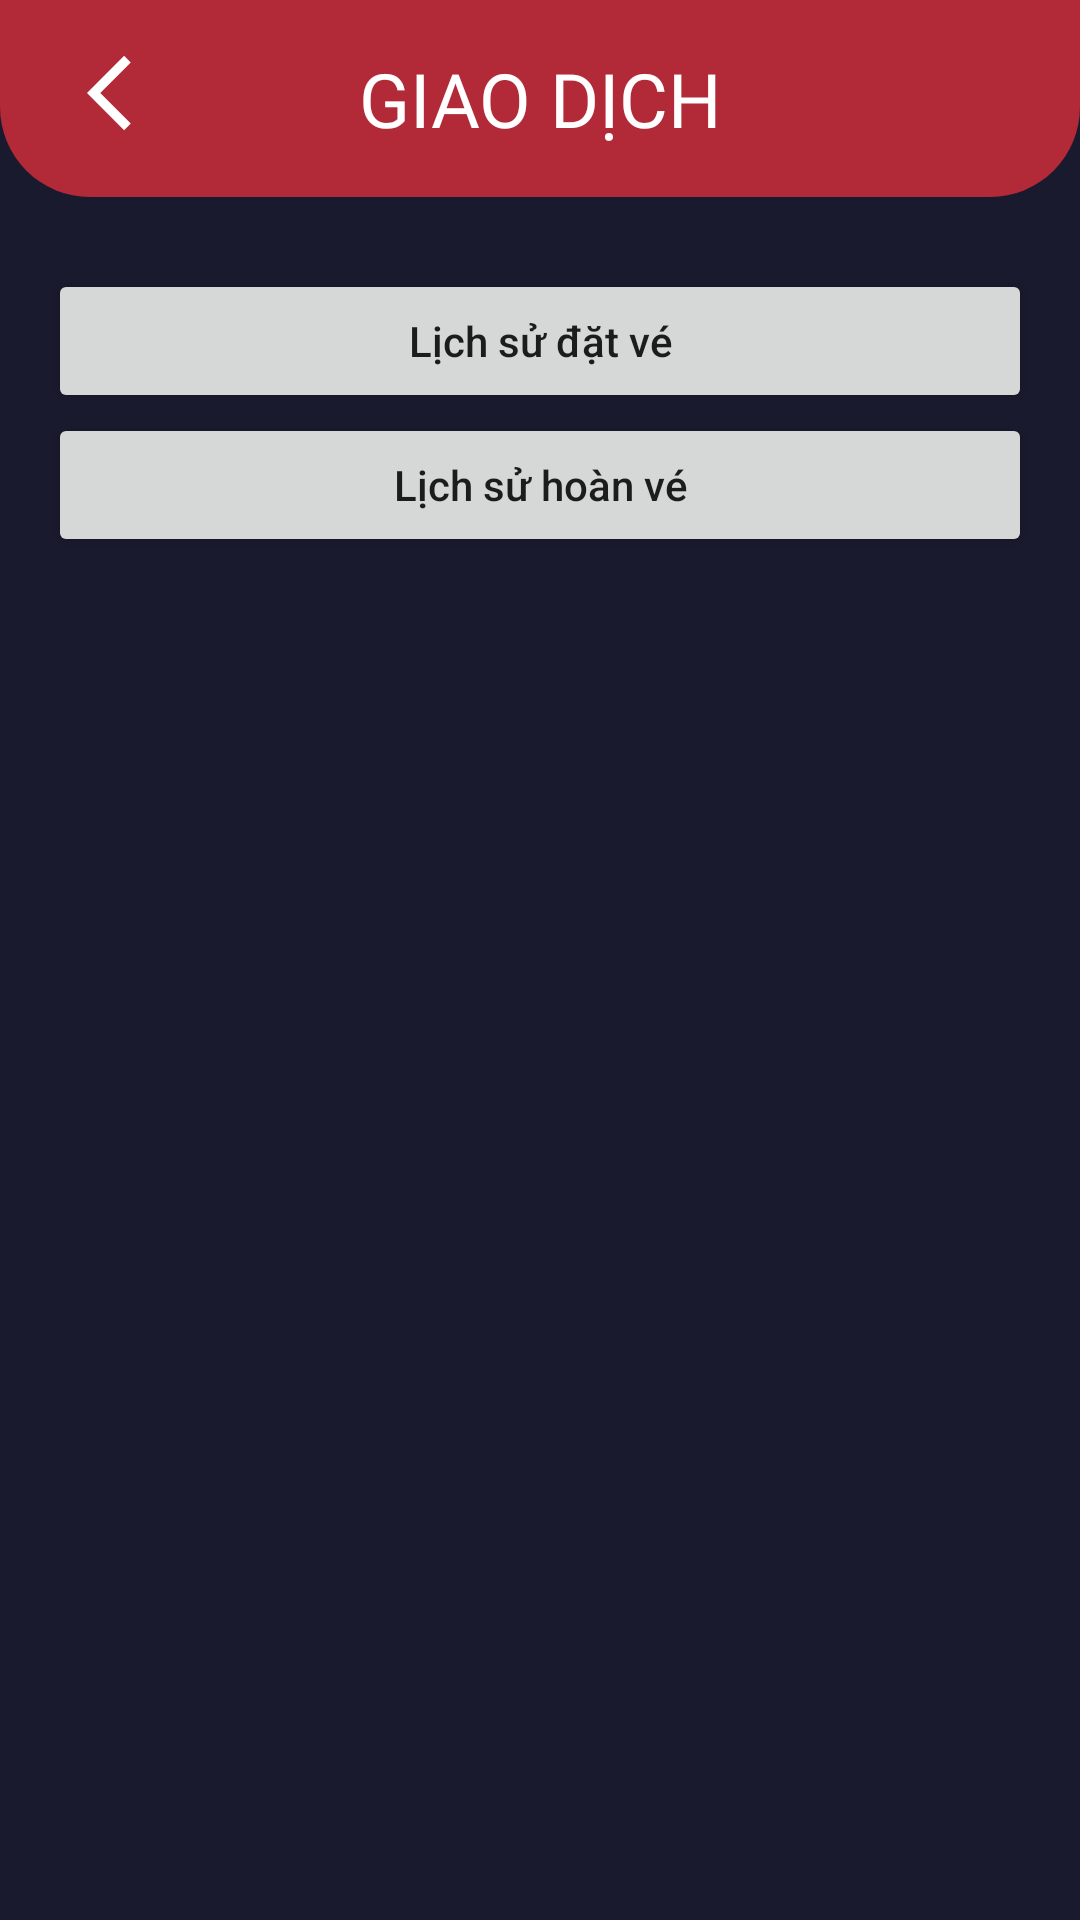

Icon click points for this 1080x1920 phone screenshot, format point (x, y):
back arrow: point (109, 93)
